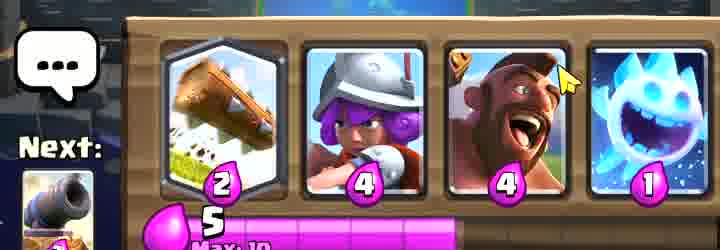cannon: (22, 171, 94, 249)
hog-rider: (445, 53, 557, 198)
ice-spirit: (595, 45, 710, 199)
log: (168, 42, 281, 186)
musketeer: (308, 48, 425, 204)
